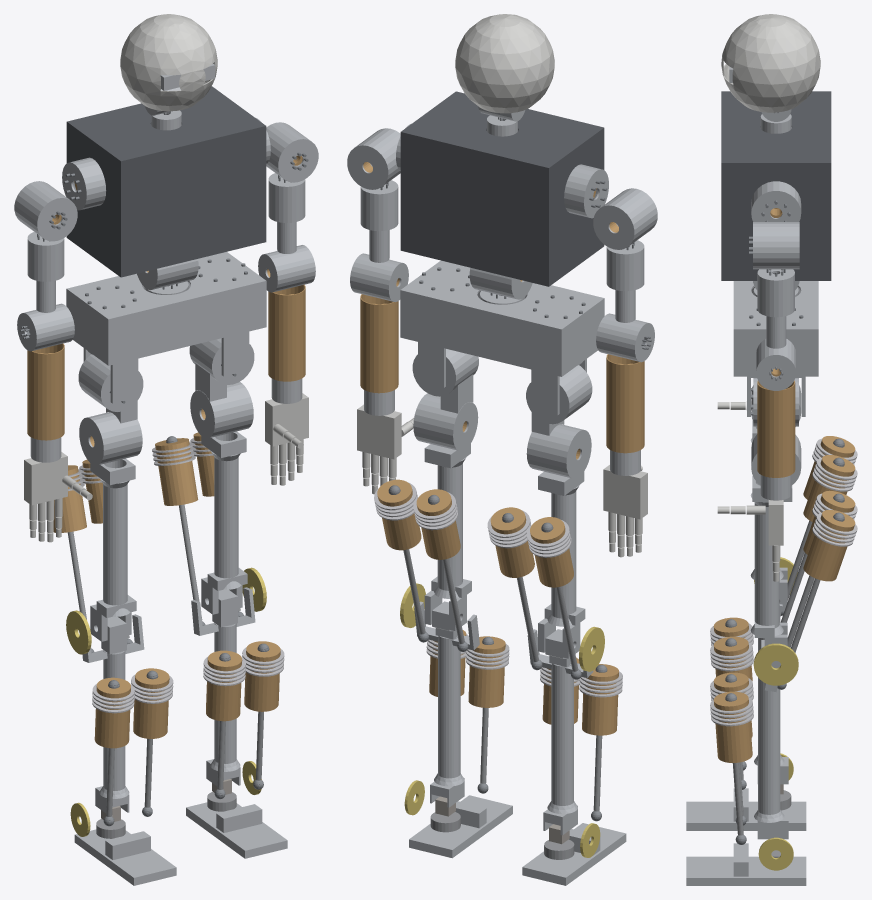
File: bhl_v3.glb
The picture shows the model from 3 angles, left to right: view 1: azimuth 30°, elevation 25°; view 2: azimuth 150°, elevation 25°; view 3: azimuth 270°, elevation 25°; orthographic projection. The views are drawn at different scales.
Visible parts, largest first — view 1: p13, p0, p153, p43, p105, p226, p298, p250, p178, p242, p86, p170 (+37 smaller); view 2: p13, p0, p153, p105, p43, p274, p202, p226, p86, p242, p170, p298 (+34 smaller); view 3: p13, p153, p0, p43, p226, p202, p298, p178, p24, p191, p214, p30 (+24 smaller).
Boxes of the visible parts, x1,y1,x2,y2 form: p13: (66, 86, 266, 277); p0: (66, 252, 266, 365); p153: (120, 14, 217, 111); p43: (268, 284, 305, 381); p105: (27, 343, 64, 440); p226: (186, 802, 287, 858); p298: (74, 829, 176, 885); p250: (103, 484, 127, 605); p178: (214, 457, 238, 578); p242: (79, 412, 142, 465); p86: (14, 181, 77, 241); p170: (190, 382, 253, 438); p13: (400, 91, 604, 286); p0: (400, 260, 604, 376); p153: (455, 14, 554, 113); p105: (606, 354, 644, 453); p43: (360, 294, 398, 393); p274: (551, 663, 573, 805); p202: (438, 636, 460, 778); p226: (409, 795, 512, 858); p86: (593, 188, 657, 249); p242: (526, 424, 591, 478); p170: (413, 393, 478, 451); p298: (522, 823, 626, 885); p13: (721, 91, 831, 280); p153: (721, 14, 820, 112); p0: (733, 281, 818, 376); p43: (757, 380, 795, 477); p226: (686, 843, 806, 885); p202: (758, 677, 780, 814); p298: (686, 788, 806, 830); p178: (754, 503, 779, 628); p24: (753, 222, 799, 269); p191: (803, 510, 855, 581); p214: (713, 691, 752, 762); p30: (757, 269, 794, 317).
Size of the model in its own units: 0.669 by 1.83 by 0.343.
